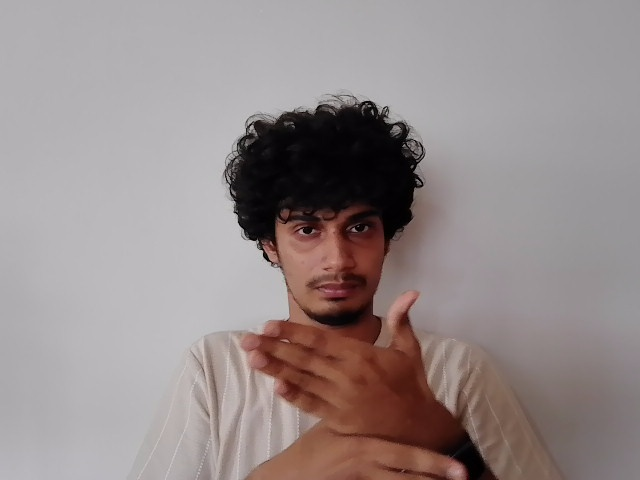busy: (239, 287, 480, 480)
